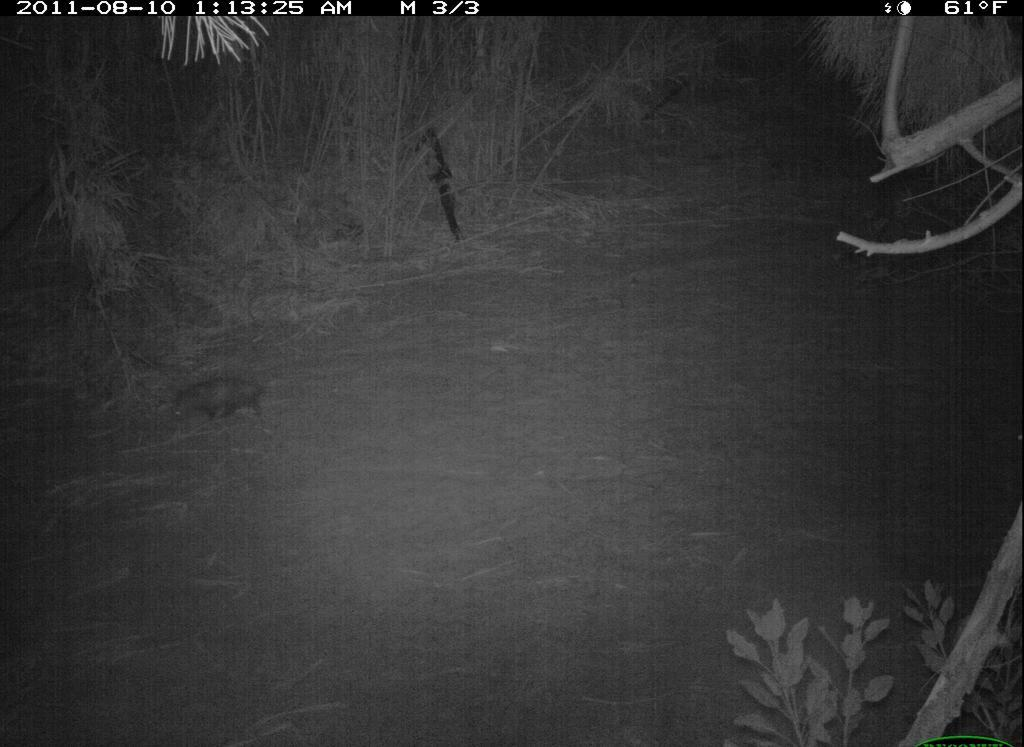opossum: (142, 345, 287, 440)
